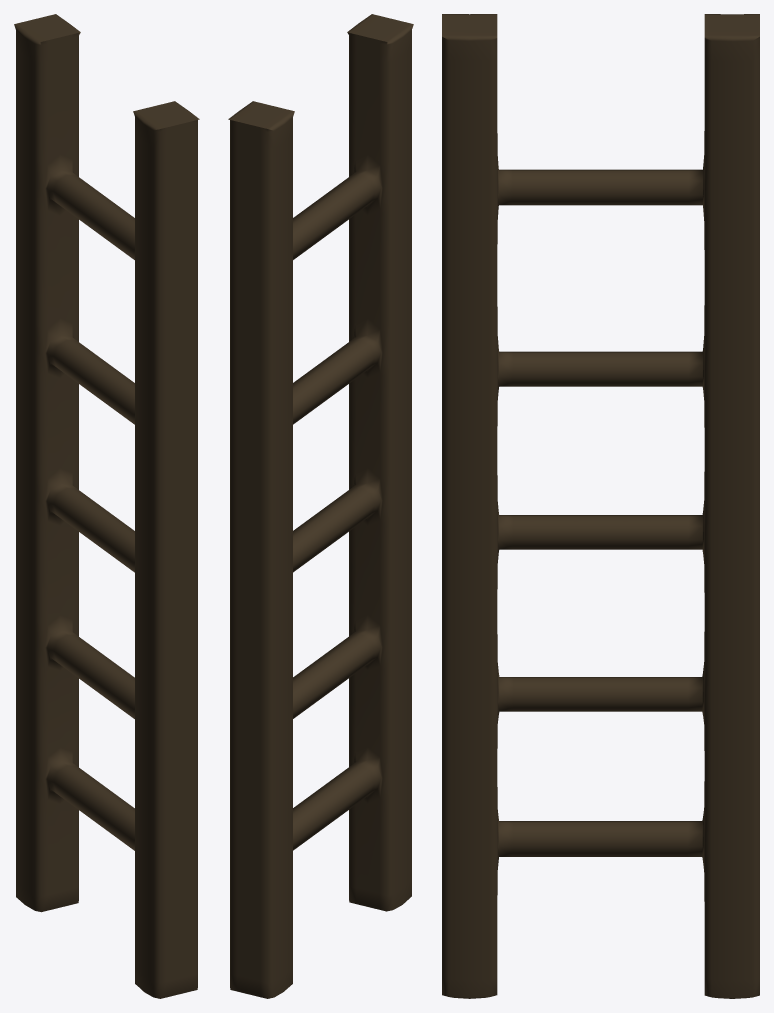
The model's file is escalera_pequeña.fbx.
The picture shows the model from 3 angles, left to right: view 1: azimuth 30°, elevation 25°; view 2: azimuth 150°, elevation 25°; view 3: azimuth 270°, elevation 25°; orthographic projection. The views are drawn at different scales.
Parts seen in each view (by area): view 1: pasted__pCube3; view 2: pasted__pCube3; view 3: pasted__pCube3.
Part boxes in pixels (<box>): pasted__pCube3: <box>14,14,199,998</box>; pasted__pCube3: <box>228,14,413,998</box>; pasted__pCube3: <box>442,14,759,998</box>.
Bounding box in the file's own units: 0.6193 × 11.08 × 3.32.
